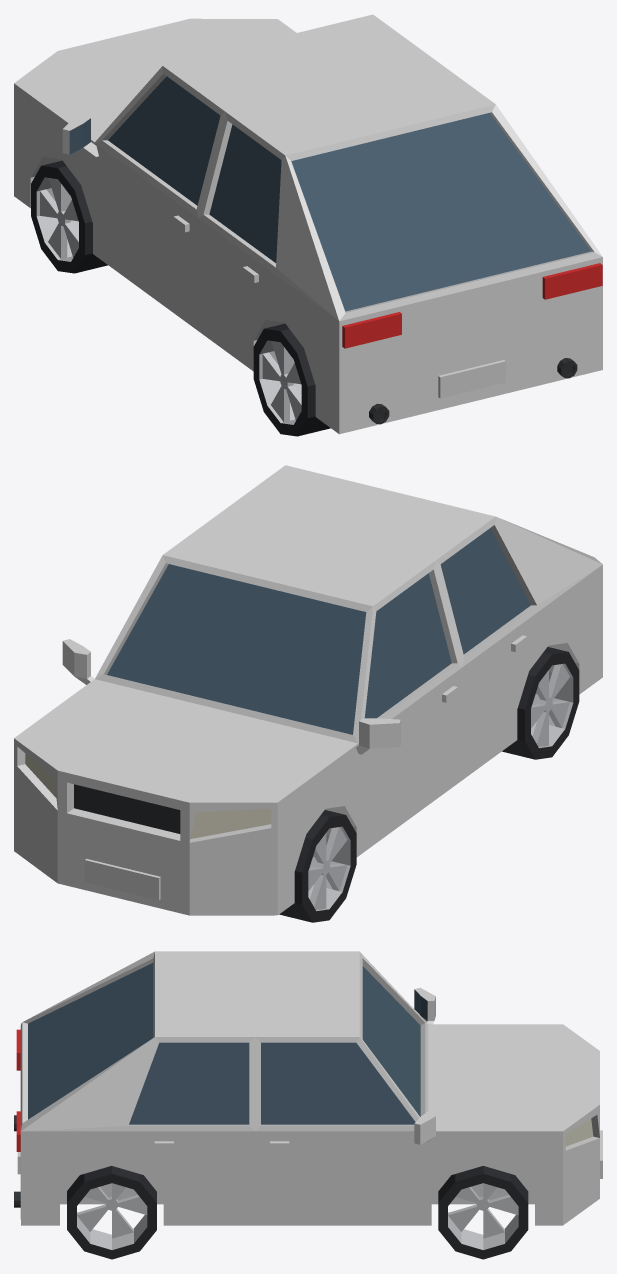
File: hatchback.glb
3 views of the same model, one above another, from view 1: azimuth 30°, elevation 25°; view 2: azimuth 150°, elevation 25°; view 3: azimuth 270°, elevation 25° (orthographic). The views are drawn at different scales.
Parts seen in each view (by area): view 1: Body, Wheel_RL, Wheel_FL; view 2: Body, Wheel_FL, Wheel_RL; view 3: Body, Wheel_FR, Wheel_RR.
Boxes of the visible parts, x1=… form: Body: x1=14, y1=14, x2=602, y2=434; Wheel_RL: x1=253, y1=323, x2=330, y2=436; Wheel_FL: x1=31, y1=160, x2=107, y2=273; Body: x1=14, y1=465, x2=602, y2=915; Wheel_FL: x1=279, y1=810, x2=356, y2=922; Wheel_RL: x1=502, y1=647, x2=579, y2=759; Body: x1=14, y1=951, x2=602, y2=1225; Wheel_FR: x1=438, y1=1166, x2=528, y2=1259; Wheel_RR: x1=67, y1=1166, x2=156, y2=1259.
Bounding box in the file's own units: 2.81 × 2.01 × 5.11.
